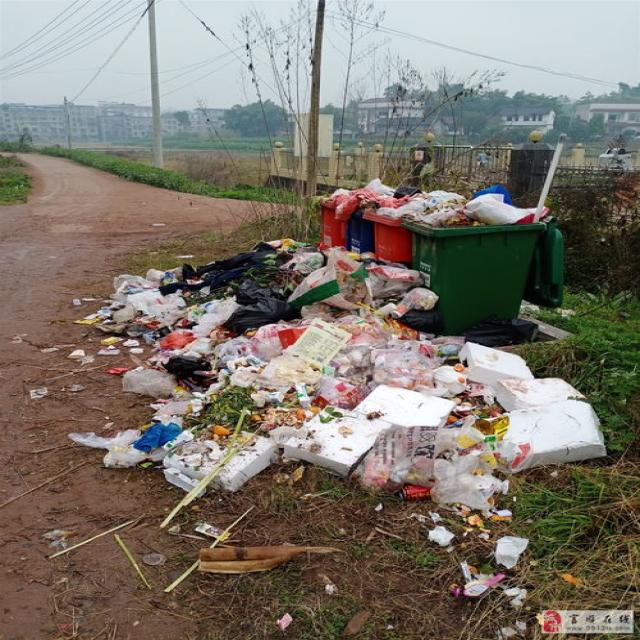garbage: (63, 238, 605, 608)
overflow: (401, 184, 563, 332), (361, 190, 412, 264), (346, 177, 372, 251), (316, 186, 344, 249)
